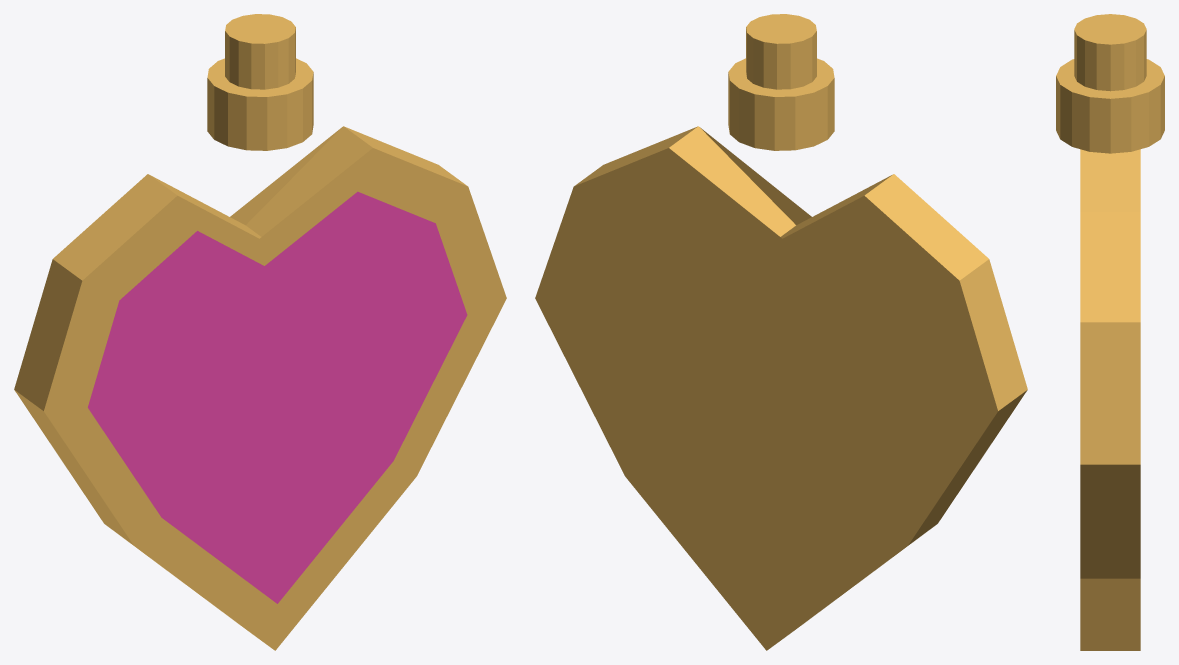
The model's file is gema.fbx.
The picture shows the model from 3 angles, left to right: view 1: azimuth 30°, elevation 25°; view 2: azimuth 150°, elevation 25°; view 3: azimuth 270°, elevation 25°; orthographic projection.
Visible parts, largest first — view 1: Corazon_Colgante; view 2: Corazon_Colgante; view 3: Corazon_Colgante.
Part boxes in pixels (<box>): Corazon_Colgante: <box>14,14,506,650</box>; Corazon_Colgante: <box>535,14,1027,650</box>; Corazon_Colgante: <box>1056,14,1164,650</box>.
Size of the model in its own units: 180 by 227 by 36.
